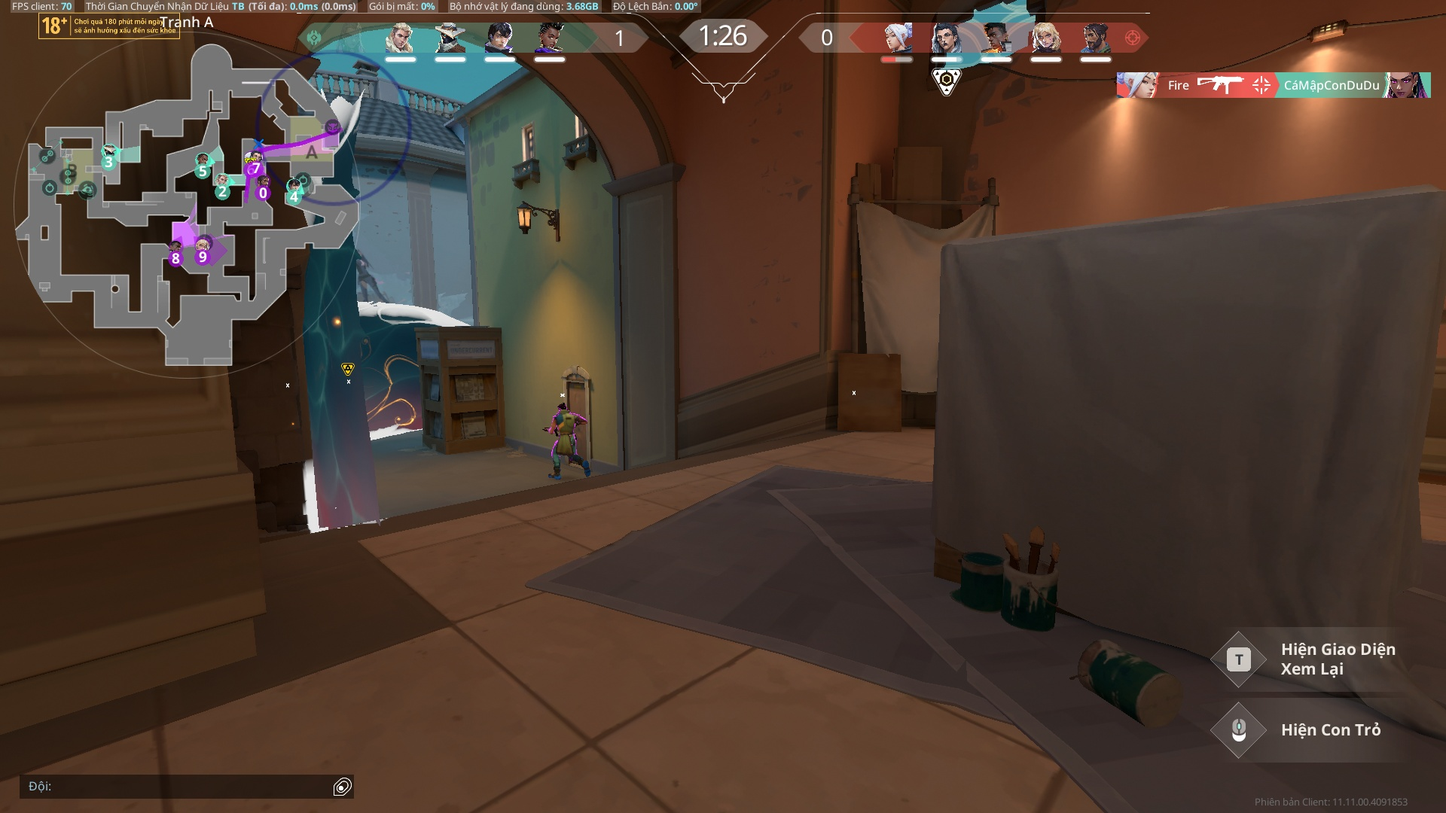body: (552, 411, 578, 434)
head: (557, 403, 567, 412)
